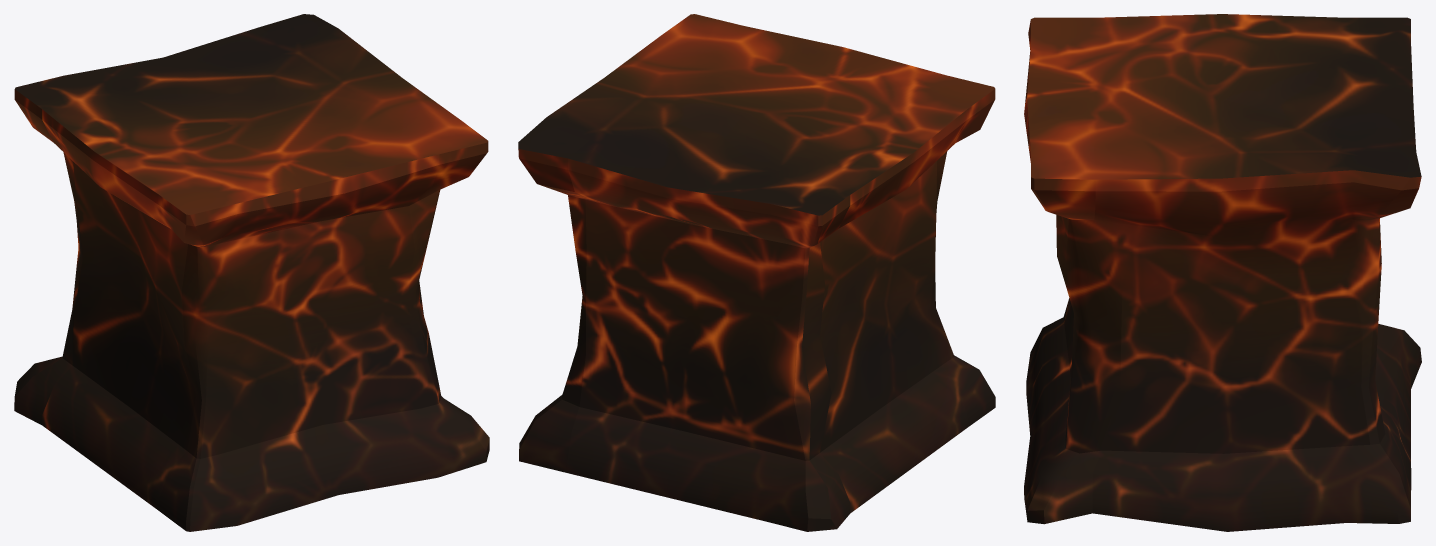
The model's file is wall_07_boundry.fbx.
3 views of the same model, side by side, from view 1: azimuth 30°, elevation 25°; view 2: azimuth 150°, elevation 25°; view 3: azimuth 270°, elevation 25° (orthographic). The views are drawn at different scales.
Visible parts, largest first — view 1: wall_07; view 2: wall_07; view 3: wall_07.
Boxes of the visible parts, <box> form: wall_07: <box>14,14,489,531</box>; wall_07: <box>518,14,995,531</box>; wall_07: <box>1024,14,1421,531</box>.
Size of the model in its own units: 105 by 103 by 105.
